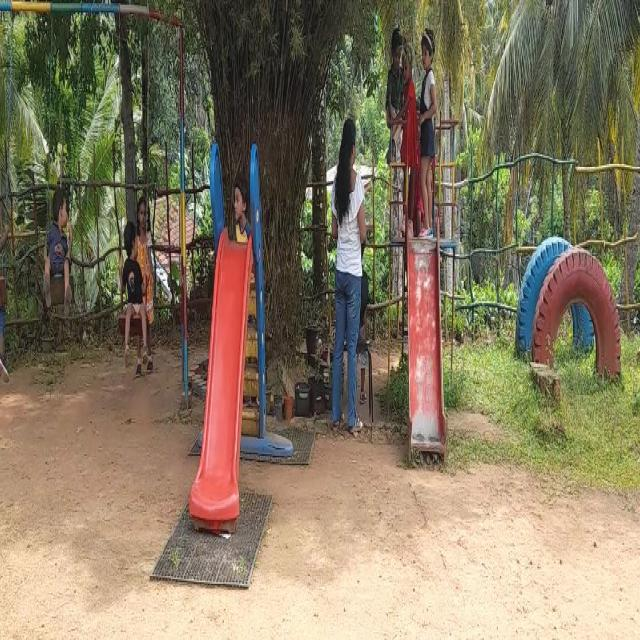adult: (327, 118, 366, 433)
child: (45, 175, 82, 328), (123, 194, 153, 352), (420, 11, 440, 217), (402, 28, 422, 205), (0, 128, 12, 374)
